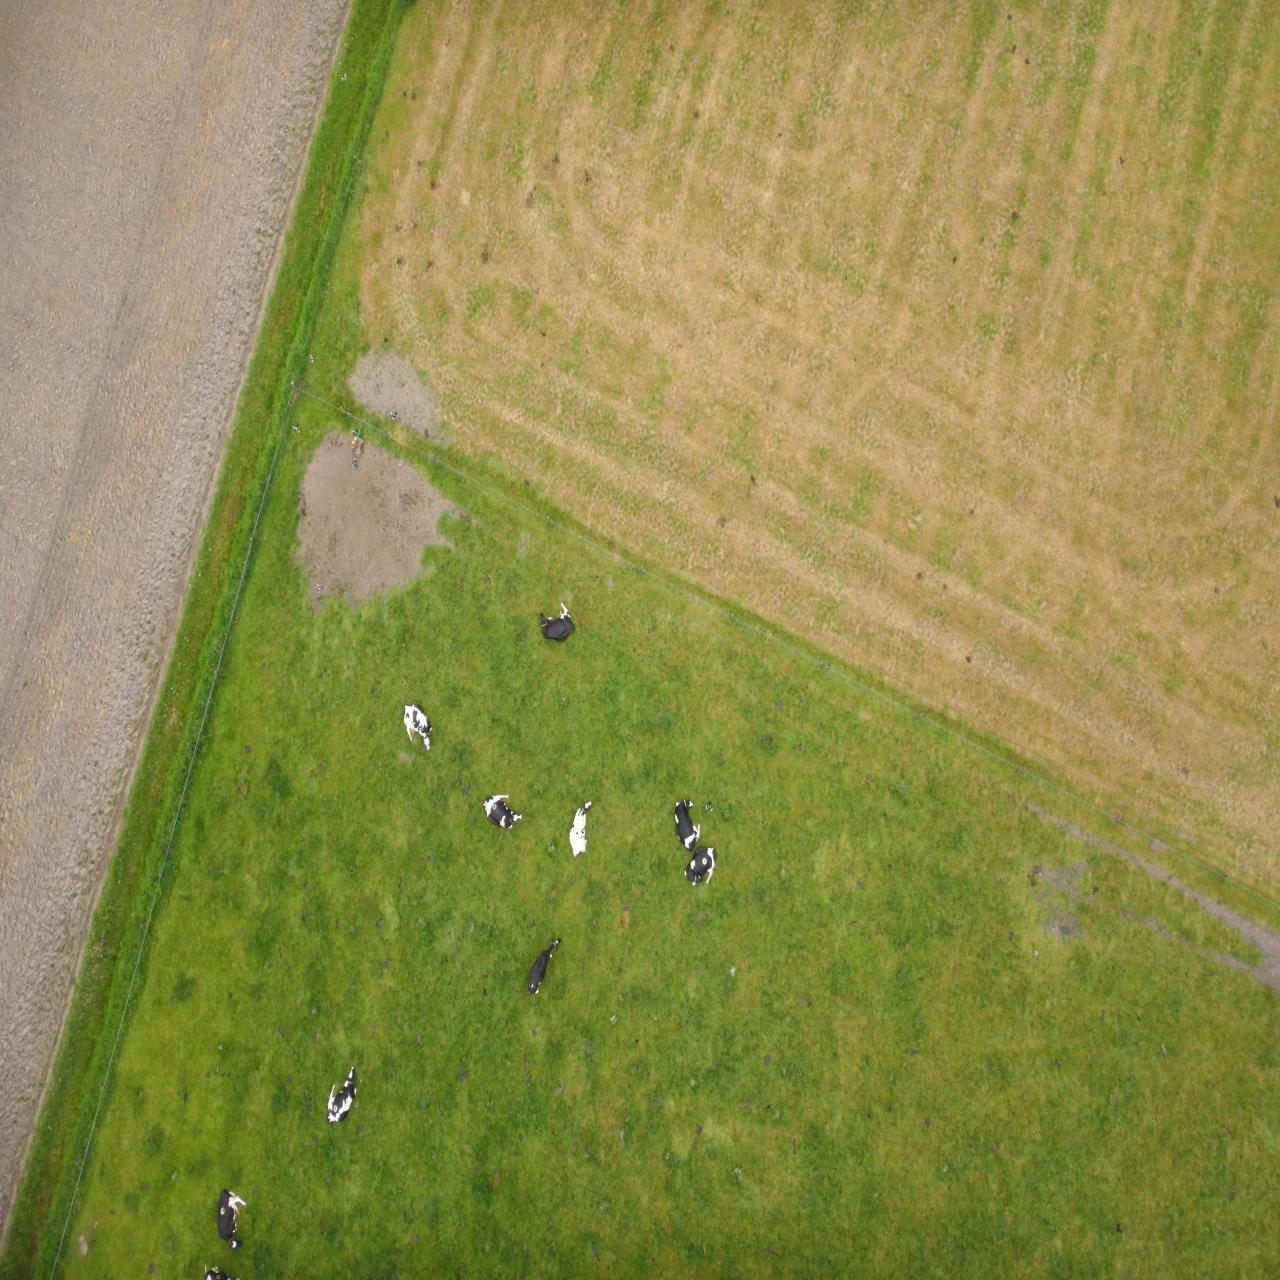cow: (719, 286, 753, 343), (1035, 30, 1063, 91), (922, 156, 952, 212), (847, 529, 878, 577), (706, 638, 741, 676), (757, 451, 797, 485), (581, 428, 606, 481), (688, 423, 710, 479), (565, 394, 595, 434)
